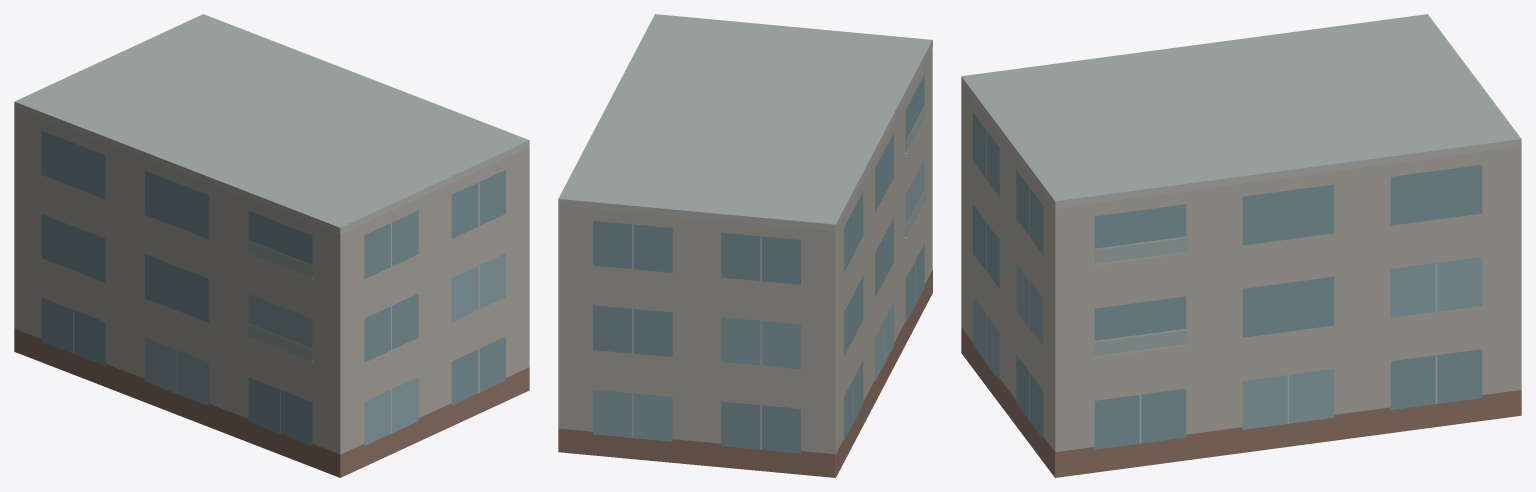
Rendered from survey-upis-32908564.glb.
3 renders of one model, left to right at view 1: azimuth 30°, elevation 25°; view 2: azimuth 150°, elevation 25°; view 3: azimuth 270°, elevation 25°, orthographic. The views are drawn at different scales.
Parts seen in each view (by area): view 1: survey-upis-32908564.tmp; view 2: survey-upis-32908564.tmp; view 3: survey-upis-32908564.tmp.
Boxes of the visible parts, x1,y1,x2,y2 form: survey-upis-32908564.tmp: (14,14,529,477); survey-upis-32908564.tmp: (558,14,932,477); survey-upis-32908564.tmp: (961,14,1521,477).
Size of the model in its own units: 13.29 by 9.15 by 16.81.
